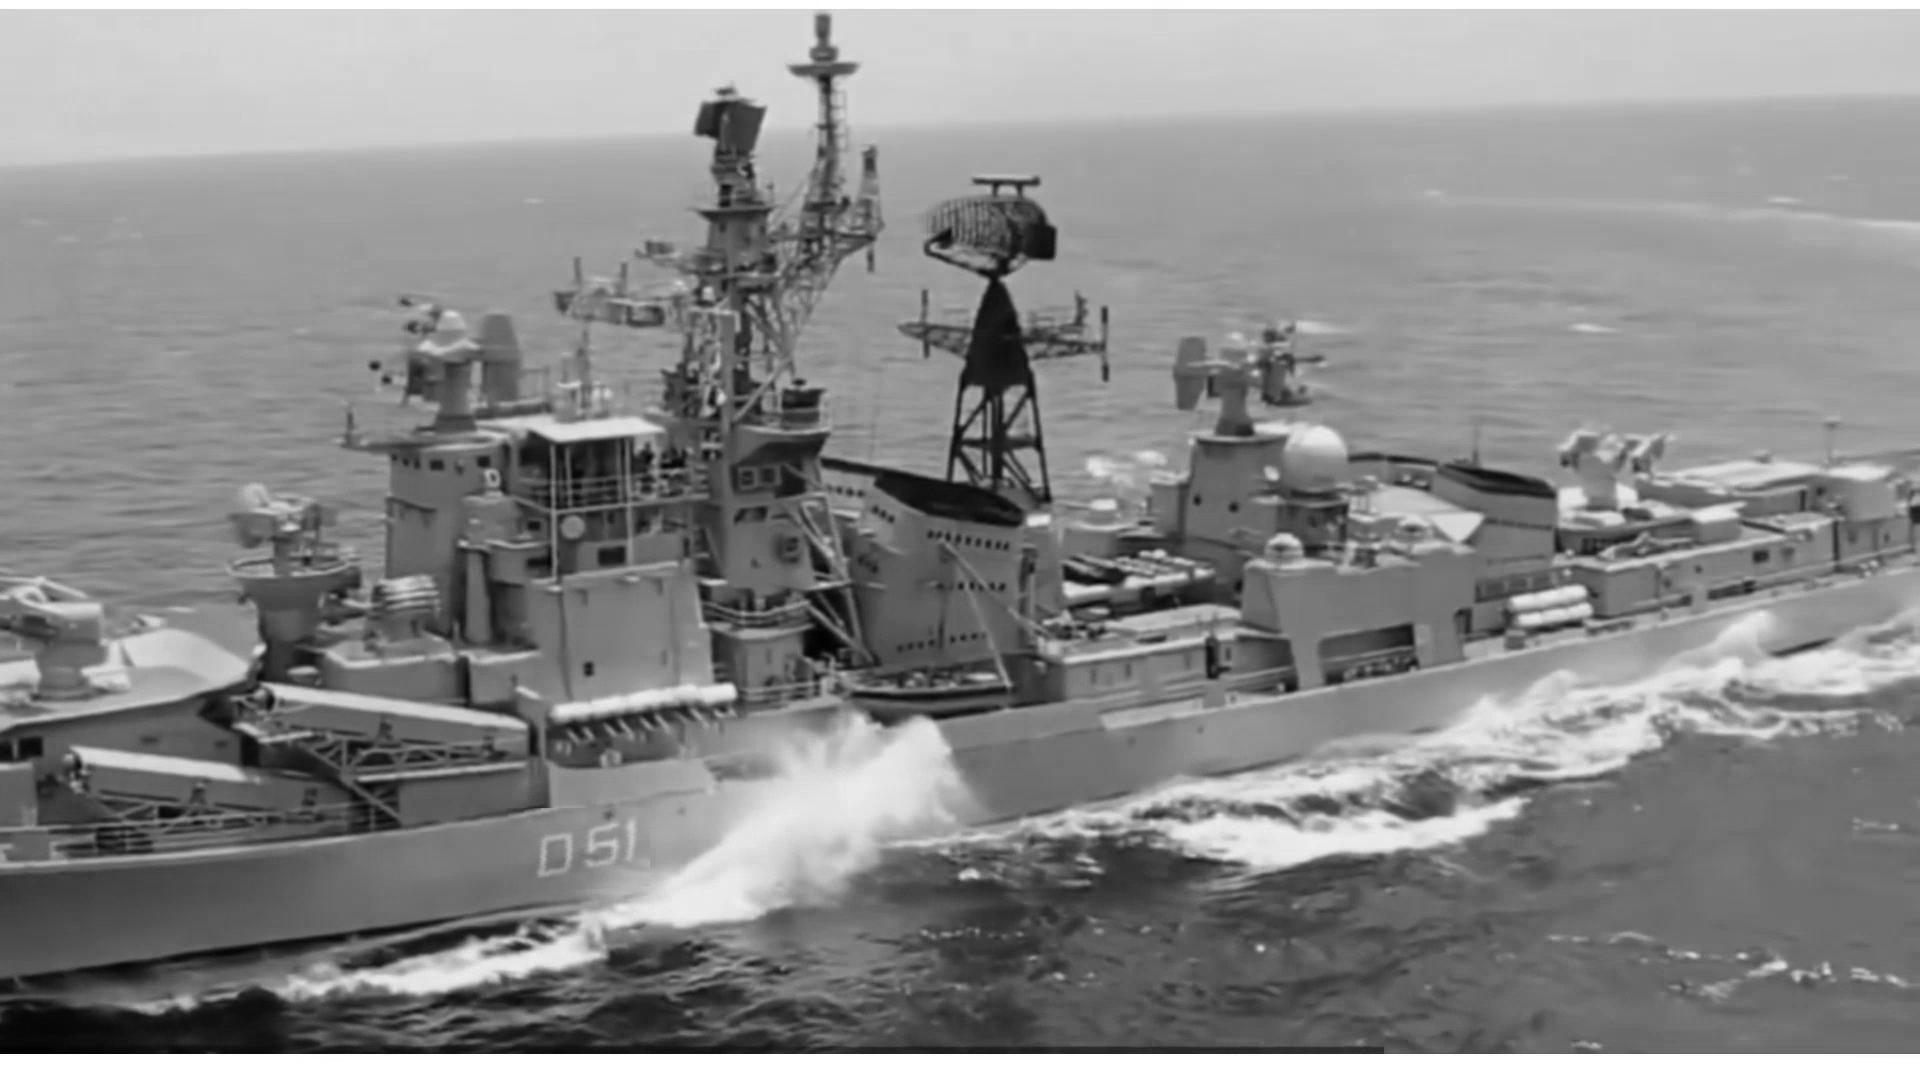OCR: (498, 808, 650, 895)
